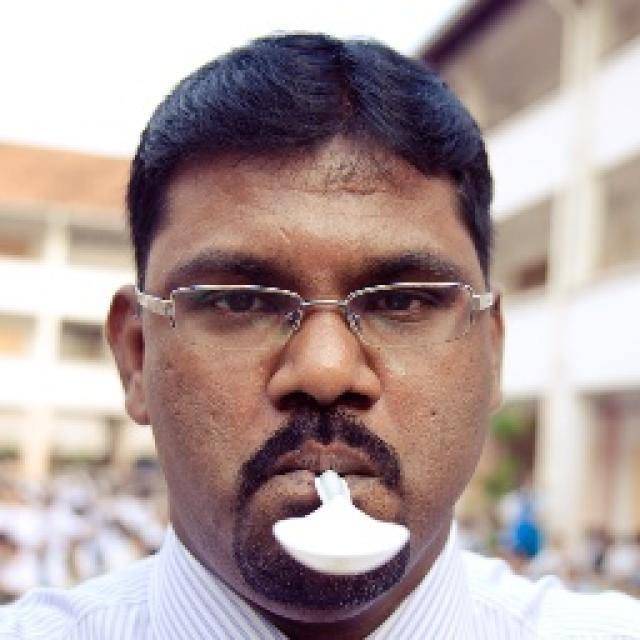earlobe: (102, 284, 153, 426), (479, 286, 506, 419)
